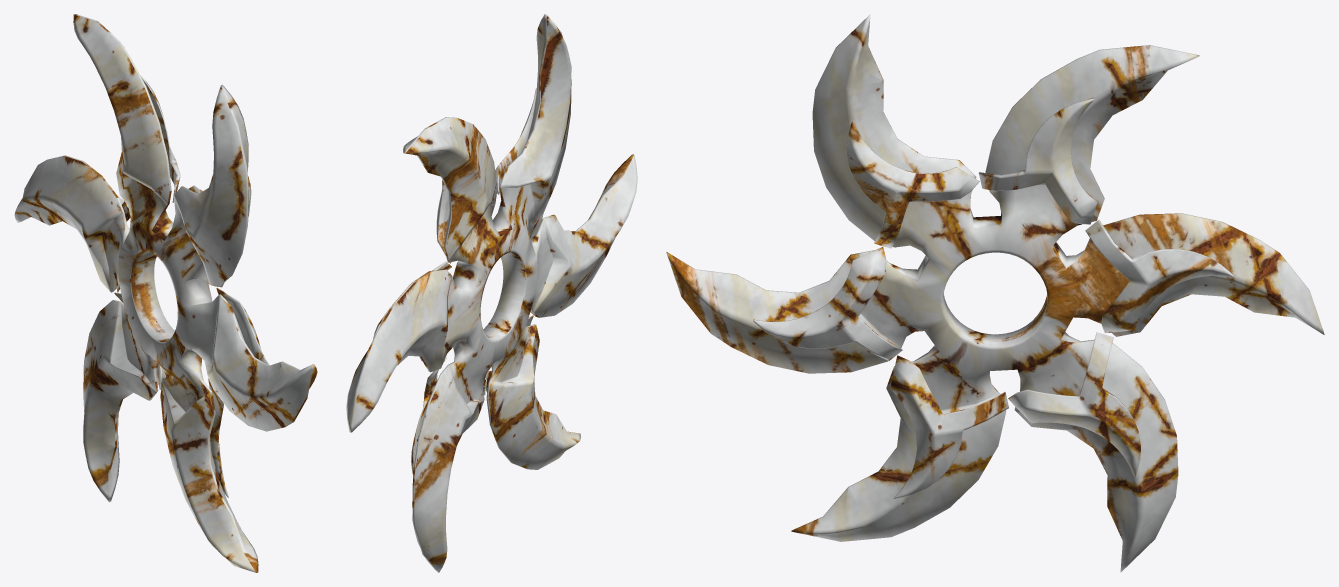
File: shuriken_1.fbx
3 views of the same model, side by side, from view 1: azimuth 30°, elevation 25°; view 2: azimuth 150°, elevation 25°; view 3: azimuth 270°, elevation 25° (orthographic). The views are drawn at different scales.
Visible parts, largest first — view 1: Shuriken_Ninja_Star_Collection_Vol_03_042; view 2: Shuriken_Ninja_Star_Collection_Vol_03_042; view 3: Shuriken_Ninja_Star_Collection_Vol_03_042.
Boxes of the visible parts, x1,y1,x2,y2 form: Shuriken_Ninja_Star_Collection_Vol_03_042: (14,14,317,572); Shuriken_Ninja_Star_Collection_Vol_03_042: (346,14,637,572); Shuriken_Ninja_Star_Collection_Vol_03_042: (666,14,1324,572).
Bounding box in the file's own units: 3.67 × 40.42 × 43.21.
